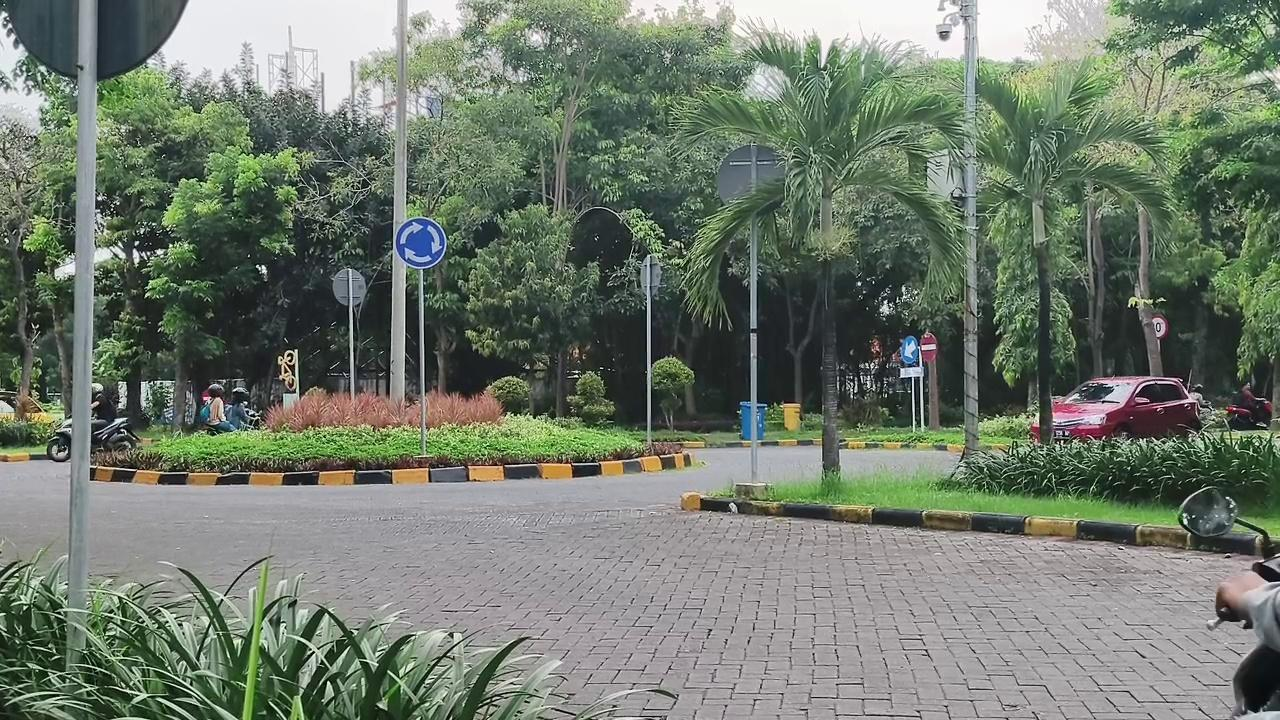Helmet: (1215, 572, 1279, 719), (201, 383, 234, 431), (90, 382, 116, 432), (226, 387, 249, 430)
Motor: (1179, 487, 1279, 582), (90, 418, 138, 451), (1226, 400, 1271, 429)
